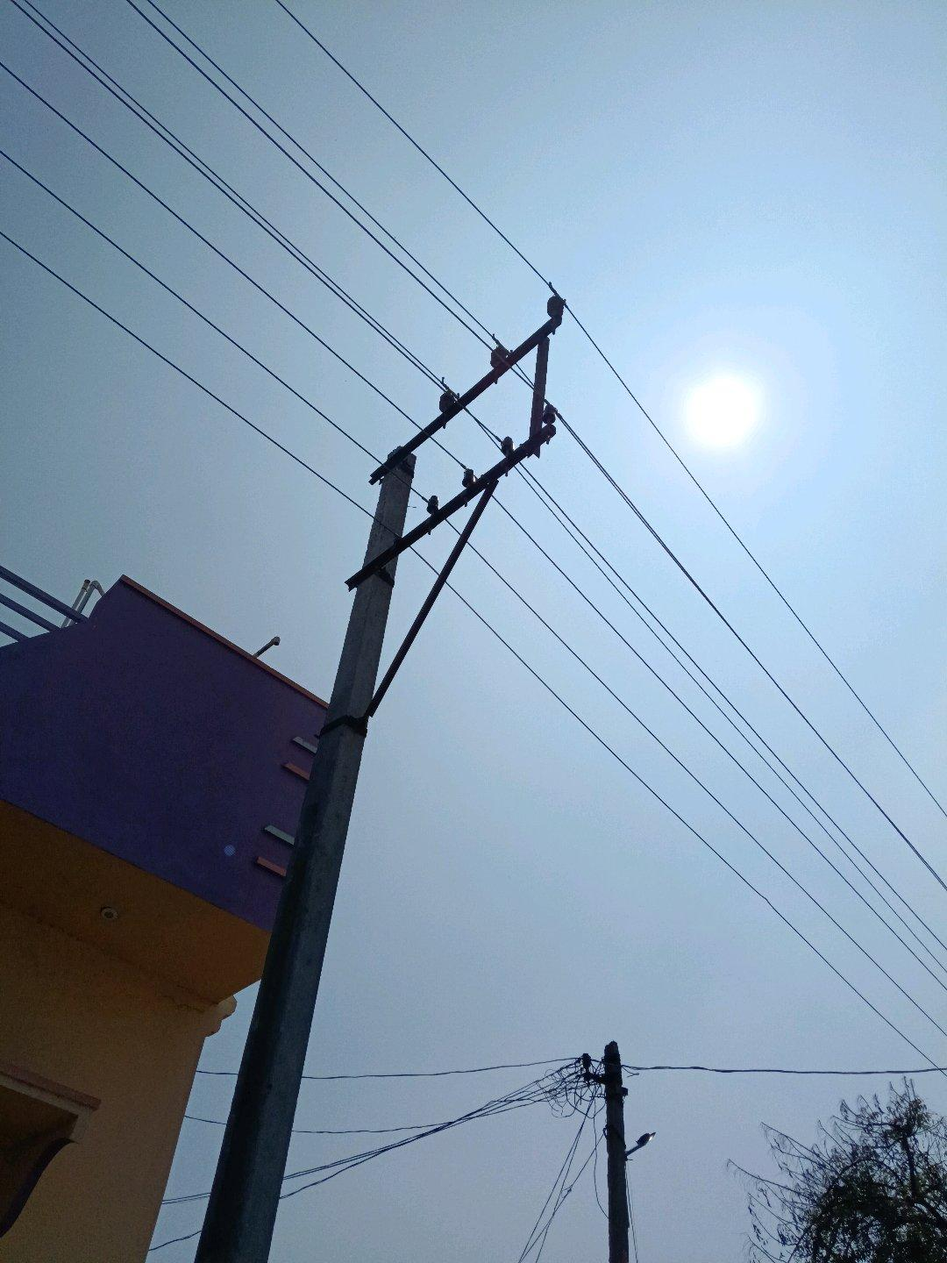{"0" "insulator", "1" "pole", "2" "crossarm", "3" "conductor", "4" "street_: (196, 295, 564, 1262), (580, 1038, 651, 1258), (391, 626, 417, 674), (434, 557, 456, 594), (425, 595, 433, 610), (453, 545, 460, 556), (473, 514, 479, 525), (488, 493, 490, 496)
